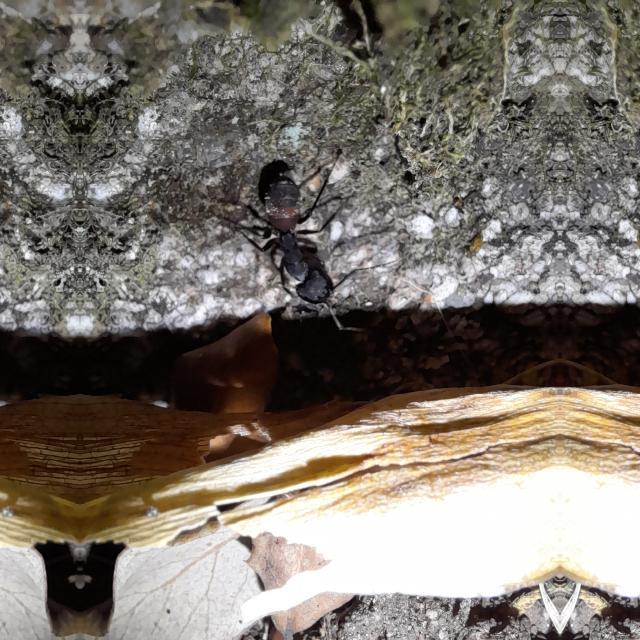Camponotus: (236, 144, 358, 340)
